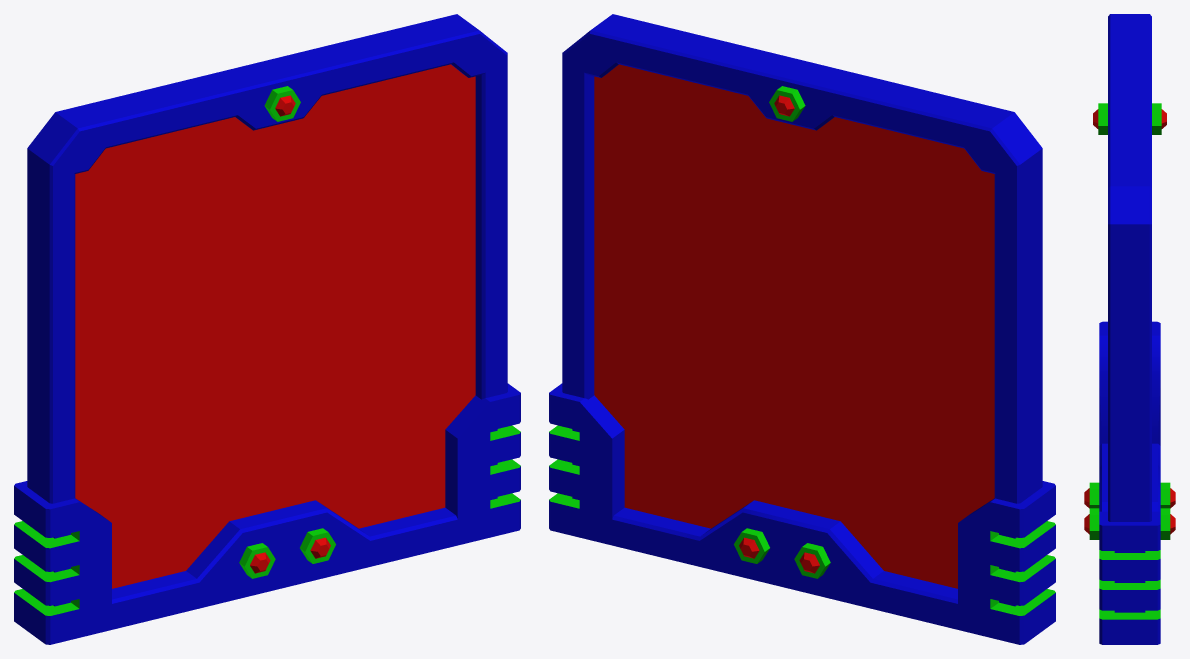
Rendered from SM_AI_Screen.fbx.
3 views of the same model, side by side, from view 1: azimuth 30°, elevation 25°; view 2: azimuth 150°, elevation 25°; view 3: azimuth 270°, elevation 25° (orthographic). The views are drawn at different scales.
Parts seen in each view (by area): view 1: AI_Screen; view 2: AI_Screen; view 3: AI_Screen.
Part boxes in pixels (left/top/right/bottom): AI_Screen: left=14, top=14, right=520, bottom=644; AI_Screen: left=549, top=14, right=1055, bottom=644; AI_Screen: left=1084, top=14, right=1175, bottom=644.
Size of the model in its own units: 550 by 557 by 104.
